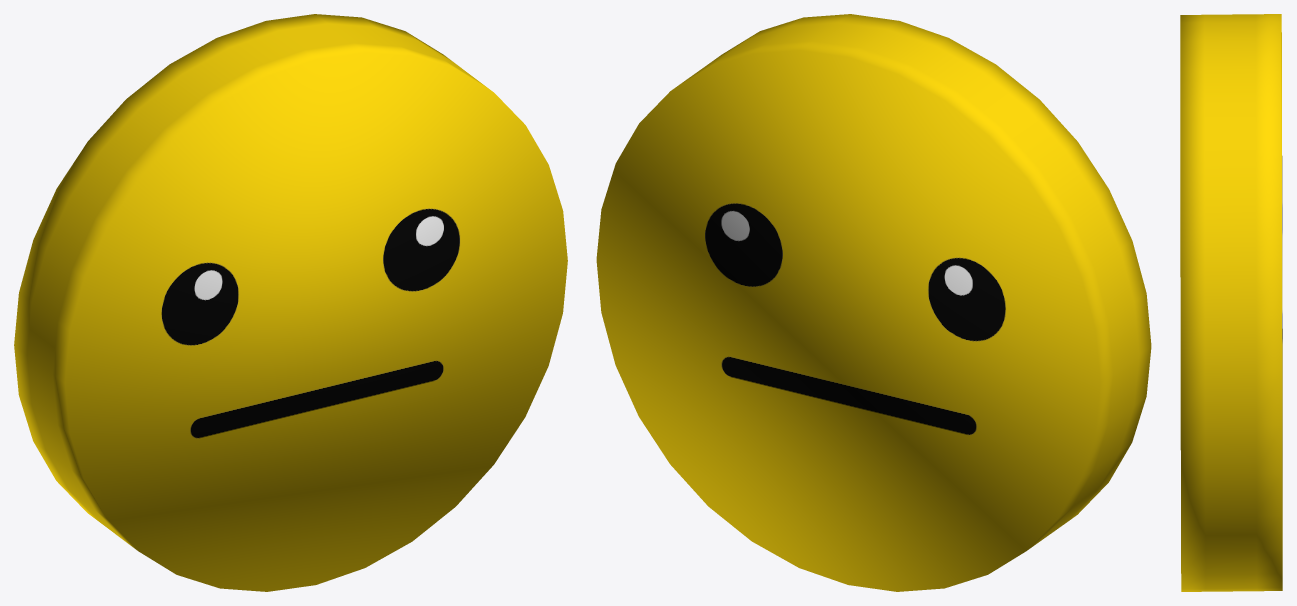
File: emotion3.gltf
3 renders of one model, left to right at view 1: azimuth 30°, elevation 25°; view 2: azimuth 150°, elevation 25°; view 3: azimuth 270°, elevation 25°, orthographic.
Parts seen in each view (by area): view 1: 3; view 2: 3; view 3: 3.
Part boxes in pixels (box(x1,y1,x2,y2)): 3: box(14, 14, 567, 591); 3: box(596, 14, 1151, 591); 3: box(1180, 14, 1282, 591).
Bounding box in the file's own units: 0.2522 × 0.2527 × 0.0448.
Materials: 1 (1 with a texture image).
